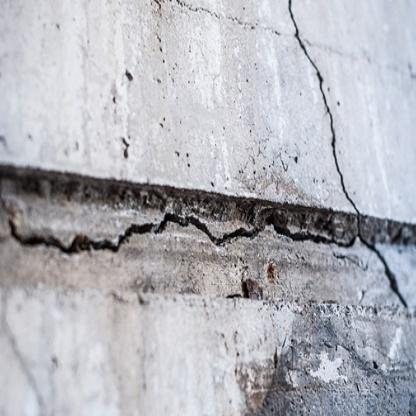Cracks: (4, 0, 413, 314)
